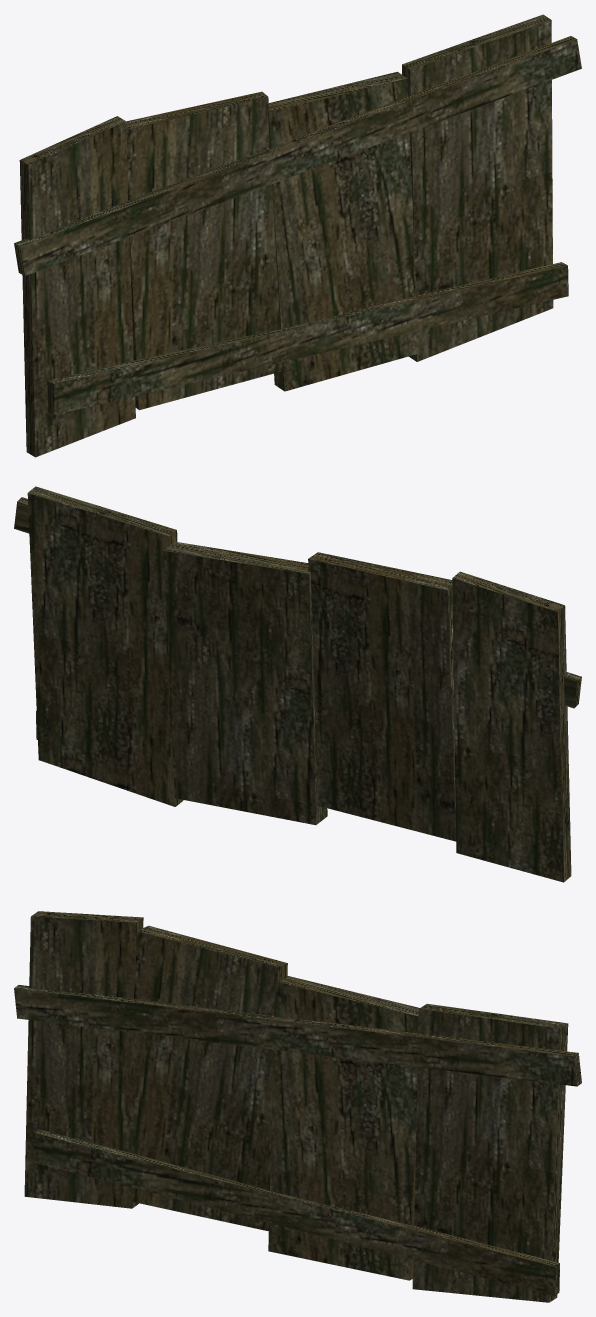
The model's file is palisada7.glb.
3 renders of one model, top to bottom at view 1: azimuth 30°, elevation 25°; view 2: azimuth 150°, elevation 25°; view 3: azimuth 330°, elevation 25°, orthographic. The views are drawn at different scales.
Visible parts, largest first — view 1: zengin01; view 2: zengin01; view 3: zengin01.
Boxes of the visible parts, left/top/right/bottom form: zengin01: left=14, top=14, right=581, bottom=457; zengin01: left=14, top=486, right=581, bottom=882; zengin01: left=14, top=911, right=581, bottom=1302.
Size of the model in its own units: 5.97 by 3.08 by 0.6583.
Materials: 1 (1 with a texture image).
